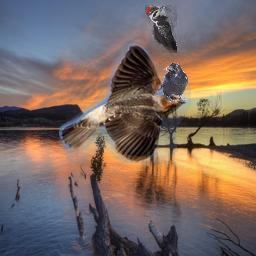Crow: (157, 62, 188, 102)
Swallow: (59, 43, 191, 163)
Woodpecker: (145, 5, 177, 53)
